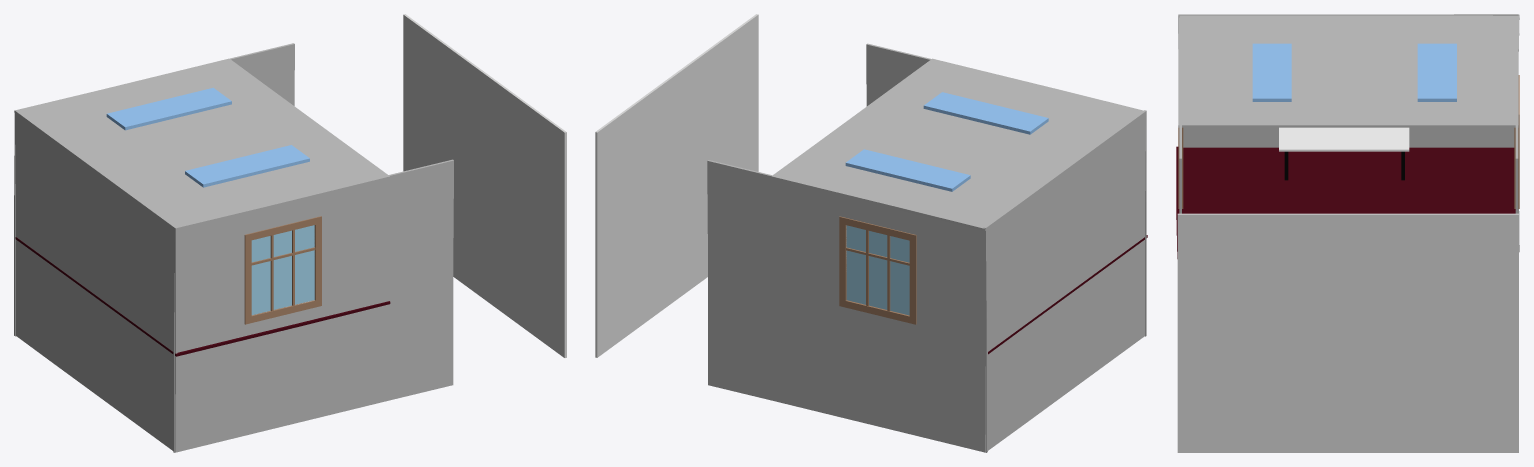
Rendered from habitacionV3.fbx.
3 views of the same model, side by side, from view 1: azimuth 30°, elevation 25°; view 2: azimuth 150°, elevation 25°; view 3: azimuth 270°, elevation 25° (orthographic). The views are drawn at different scales.
Visible parts, largest first — view 1: ParedIzq, ParedFront, ParedTrasera, Techo, VentanaIzq_Vidrio, VentanaIzq_Marco, ParedeDer, Foco2, Foco1, Piso; view 2: ParedeDer, ParedFront, ParedTrasera, Techo, VentanaDer_Vidrio, VentanaDer_Marco, ParedIzq, Foco1, Foco2; view 3: ParedTrasera, Techo, Piso, ParedFront, Mesa, Foco1, Foco2, ParedeDer, VentanaDer_Marco.
Boxes of the visible parts, x1,y1,x2,y2 form: ParedIzq: (173, 159, 453, 452); ParedFront: (14, 110, 177, 452); ParedTrasera: (403, 14, 566, 357); Techo: (14, 58, 390, 229); VentanaIzq_Vidrio: (251, 225, 314, 315); VentanaIzq_Marco: (244, 216, 321, 324); ParedeDer: (14, 43, 294, 336); Foco2: (106, 87, 231, 130); Foco1: (185, 145, 309, 187); Piso: (15, 237, 390, 356); ParedeDer: (707, 160, 987, 452); ParedFront: (983, 110, 1146, 452); ParedTrasera: (595, 14, 758, 357); Techo: (771, 58, 1143, 230); VentanaDer_Vidrio: (846, 225, 909, 315); VentanaDer_Marco: (839, 216, 916, 324); ParedIzq: (866, 43, 1146, 336); Foco1: (923, 92, 1048, 134); Foco2: (845, 149, 970, 191); ParedTrasera: (1177, 213, 1518, 452); Techo: (1178, 14, 1519, 127); Piso: (1176, 146, 1515, 258); ParedFront: (1178, 14, 1519, 252); Mesa: (1279, 127, 1409, 151); Foco1: (1252, 43, 1291, 101); Foco2: (1417, 43, 1456, 101); ParedeDer: (1515, 15, 1518, 213); VentanaDer_Marco: (1514, 75, 1519, 208).
Size of the model in its own units: 183 by 102 by 132.
